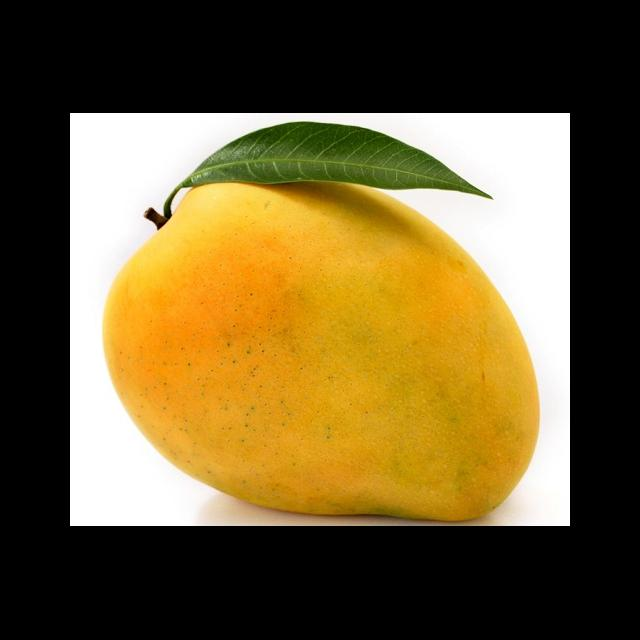xoai: (102, 154, 540, 523)
